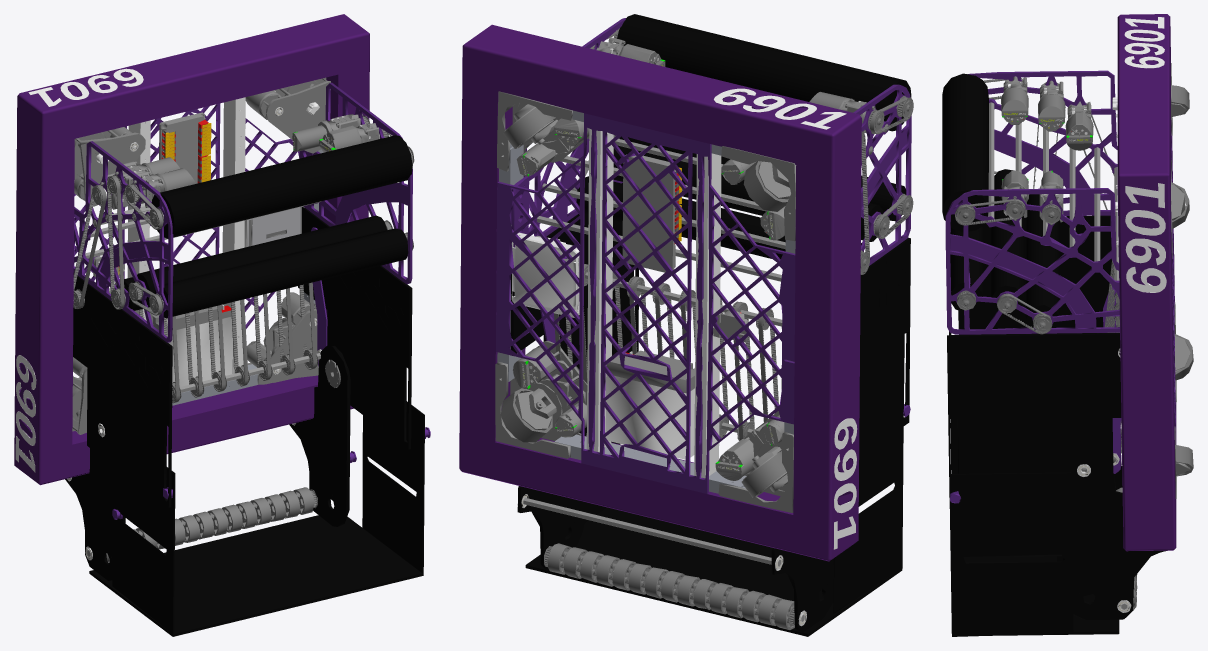
Rendered from lancelot-display-fast.glb.
The picture shows the model from 3 angles, left to right: view 1: azimuth 30°, elevation 25°; view 2: azimuth 150°, elevation 25°; view 3: azimuth 270°, elevation 25°; orthographic projection. The views are drawn at different scales.
Visible parts, largest first — view 1: Part 1 (×6), Bumper Segment 1, Simplified Thrifty Swerve, 62T 5M 9mm Wide Belt, 24t Aluminum Pulley (HTD 5mm, 9mm Wide, 1/2" Hex Bore) (×3), 2.25" Compliant Wheel (60A, 1" Wide, 1/2" Hex Bore), Simplified PDH, Robot Battery, MAXPlanetary Output Slice (×2), focus.Chassis.mesh27, 2" x 1" x 0.125" Aluminum Box Tube (16.25" L, Full Pattern, , 23.5 in. Hex Shaft (+1 smaller); view 2: Part 1 (×5), Bumper Segment 1, Simplified Thrifty Swerve, 2.25" Compliant Wheel (60A, 1" Wide, 1/2" Hex Bore), 62T 5M 9mm Wide Belt, Simplified PDH, Robot Battery, focus.Chassis.mesh27, 2" x 1" x 0.125" Aluminum Box Tube (16.25" L, Full Pattern, , 24t Aluminum Pulley (HTD 5mm, 9mm Wide, 1/2" Hex Bore) (×2), 22.5 in. Hex Shaft (×2), 23.5 in. Hex Shaft; view 3: Part 1 (×6), Bumper Segment 1, 24t Aluminum Pulley (HTD 5mm, 9mm Wide, 1/2" Hex Bore) (×2), 23.5 in. Hex Shaft, Simplified Thrifty Swerve, 62T 5M 9mm Wide Belt, MAXPlanetary Output Slice (×2).
Boxes of the visible parts, x1,y1,x2,y2 form: Part 1 (×6): [65, 82, 424, 636]; Bumper Segment 1: [14, 14, 369, 485]; Simplified Thrifty Swerve: [72, 77, 330, 434]; 62T 5M 9mm Wide Belt: [73, 131, 413, 403]; 24t Aluminum Pulley (HTD 5mm, 9mm Wide, 1/2" Hex Bore) (×3): [73, 114, 414, 401]; 2.25" Compliant Wheel (60A, 1" Wide, 1/2" Hex Bore): [106, 359, 340, 561]; Simplified PDH: [93, 112, 211, 325]; Robot Battery: [167, 305, 232, 386]; MAXPlanetary Output Slice (×2): [102, 114, 379, 209]; focus.Chassis.mesh27: [98, 206, 304, 270]; 2" x 1" x 0.125" Aluminum Box Tube (16.25" L, Full Pattern, : [172, 149, 323, 405]; 23.5 in. Hex Shaft: [85, 201, 321, 258]; Part 1 (×5): [496, 14, 911, 636]; Bumper Segment 1: [459, 24, 861, 561]; Simplified Thrifty Swerve: [495, 91, 796, 512]; 2.25" Compliant Wheel (60A, 1" Wide, 1/2" Hex Bore): [544, 366, 794, 630]; 62T 5M 9mm Wide Belt: [554, 30, 913, 440]; Simplified PDH: [622, 154, 748, 369]; Robot Battery: [605, 352, 694, 459]; focus.Chassis.mesh27: [511, 232, 579, 317]; 2" x 1" x 0.125" Aluminum Box Tube (16.25" L, Full Pattern, : [497, 110, 795, 493]; 24t Aluminum Pulley (HTD 5mm, 9mm Wide, 1/2" Hex Bore) (×2): [572, 28, 913, 440]; 22.5 in. Hex Shaft (×2): [523, 272, 804, 621]; 23.5 in. Hex Shaft: [537, 138, 866, 281]; Part 1 (×6): [942, 70, 1175, 636]; Bumper Segment 1: [1117, 14, 1176, 551]; 24t Aluminum Pulley (HTD 5mm, 9mm Wide, 1/2" Hex Bore) (×2): [956, 78, 1093, 332]; 23.5 in. Hex Shaft: [963, 102, 1119, 326]; Simplified Thrifty Swerve: [1112, 63, 1193, 498]; 62T 5M 9mm Wide Belt: [955, 79, 1121, 452]; MAXPlanetary Output Slice (×2): [1003, 76, 1091, 222].
Bounding box in the file's own units: 0.8261 × 1.14 × 0.5439.
